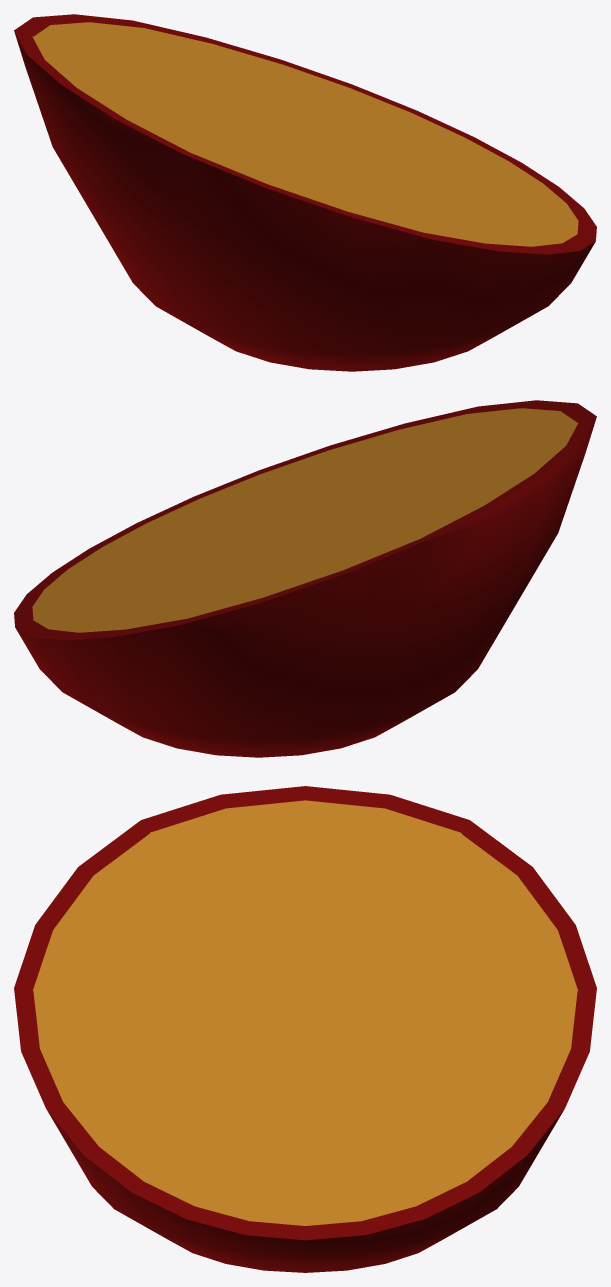
Rendered from apple3.fbx.
3 views of the same model, one above another, from view 1: azimuth 30°, elevation 25°; view 2: azimuth 150°, elevation 25°; view 3: azimuth 270°, elevation 25° (orthographic). The views are drawn at different scales.
Visible parts, largest first — view 1: apple3; view 2: apple3; view 3: apple3.
Part boxes in pixels (x1,y1,x2,y2): apple3: [14, 14, 596, 371]; apple3: [14, 400, 596, 757]; apple3: [14, 786, 596, 1272].
Size of the model in its own units: 24.22 by 14.36 by 25.13.
